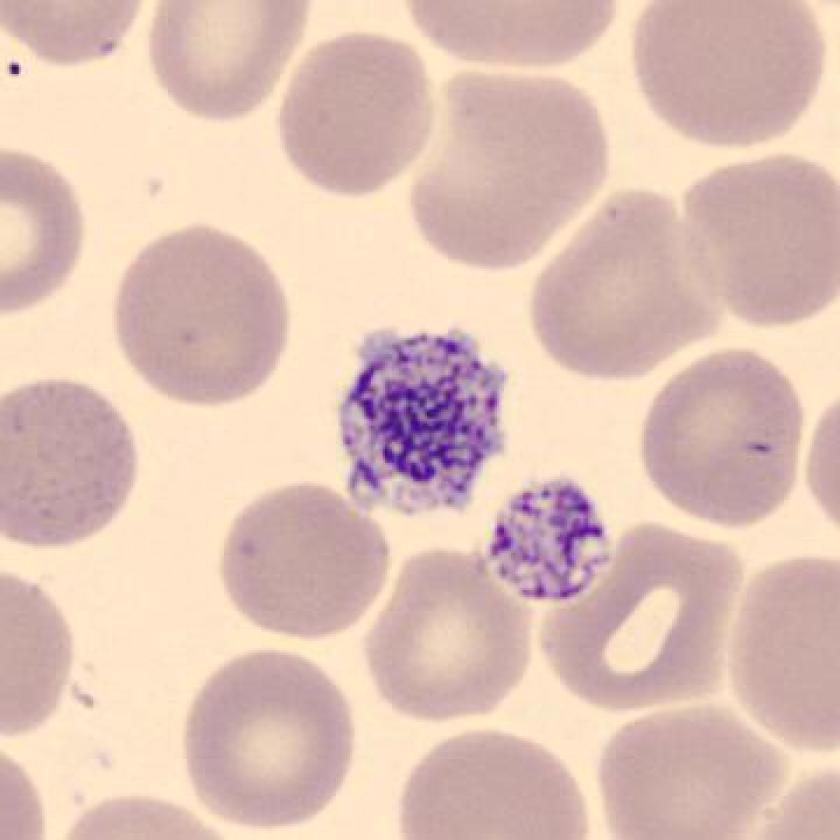platelets: (330, 323, 512, 517), (487, 471, 620, 607)
